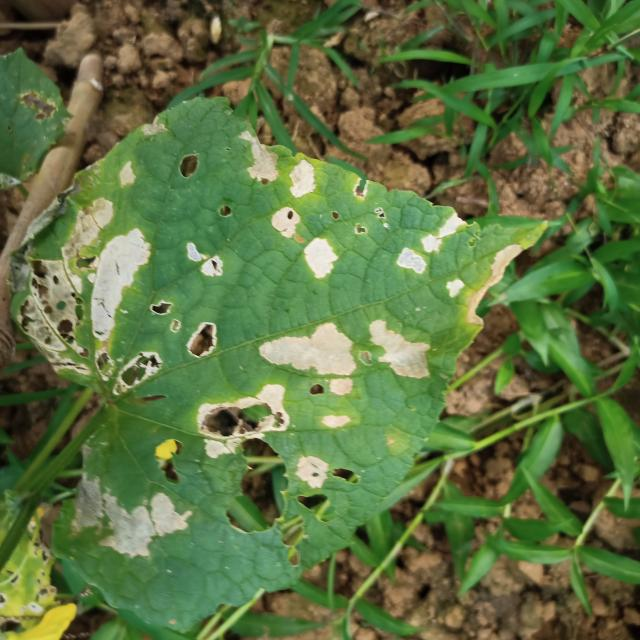disease_cucumber: (228, 120, 519, 504), (30, 146, 228, 392), (70, 388, 301, 560)
